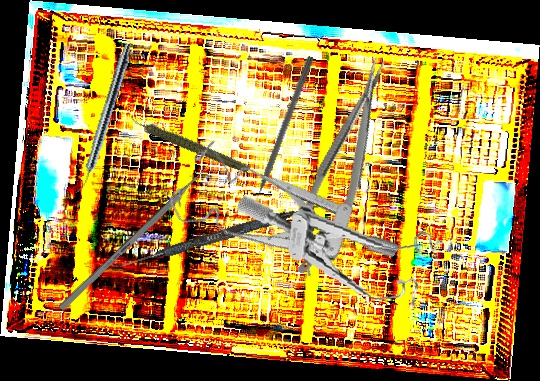Handpiece: (128, 90, 252, 196), (74, 41, 134, 197)
Needle Holder: (279, 53, 408, 282)
Pusher: (58, 152, 223, 312), (246, 54, 315, 215)
Spatula Surgical: (112, 196, 322, 277)
Speculum: (157, 104, 402, 342), (226, 194, 448, 311)
